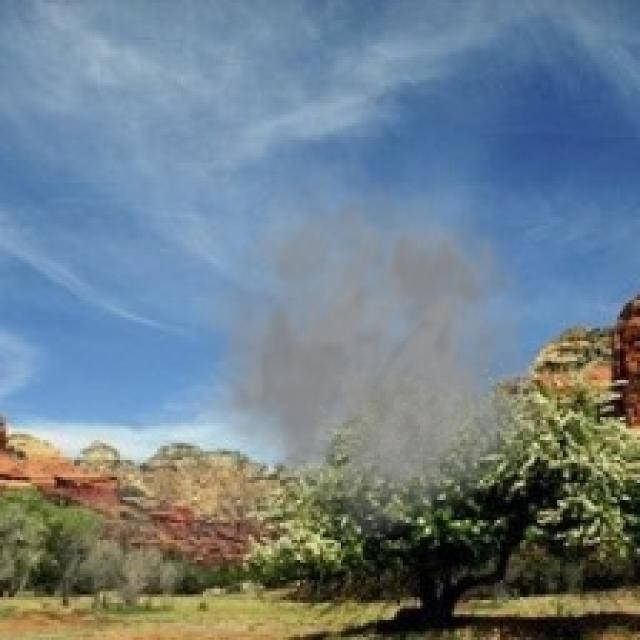Smoke: (182, 155, 548, 540)
